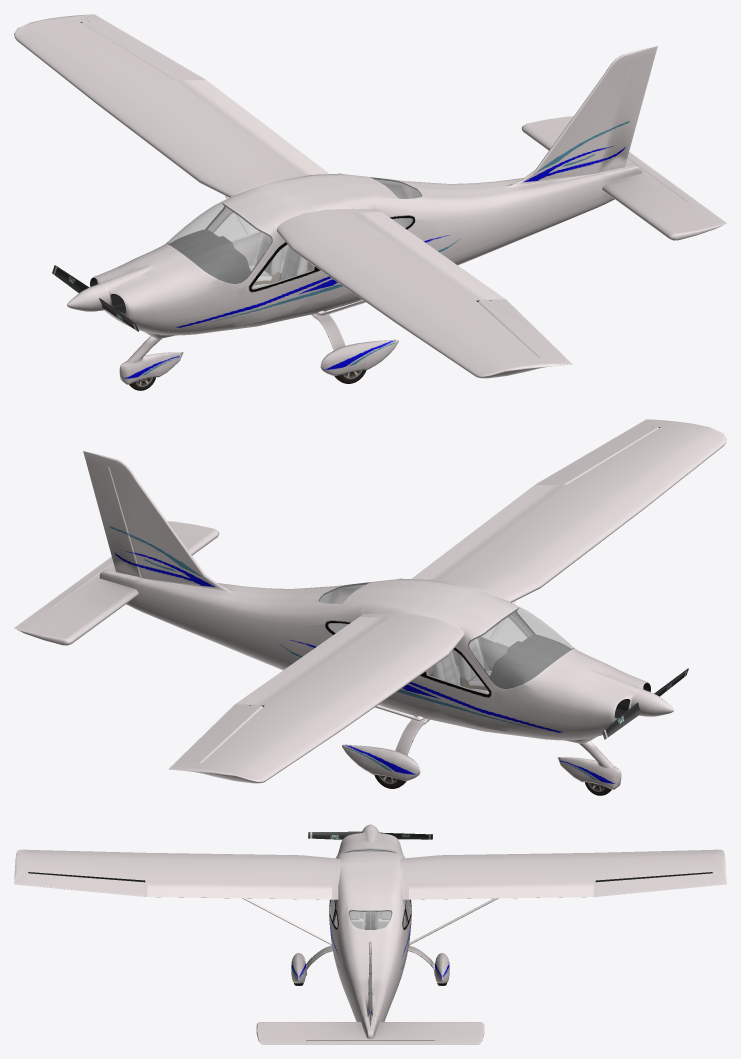
3 views of the same model, one above another, from view 1: azimuth 30°, elevation 25°; view 2: azimuth 150°, elevation 25°; view 3: azimuth 270°, elevation 25° (orthographic). The views are drawn at different scales.
Parts seen in each view (by area): view 1: Object_8, Object_7, Object_22, Object_18, Object_16, Object_10, Object_11; view 2: Object_8, Object_7, Object_22, Object_18, Object_16, Object_10, Object_11; view 3: Object_8, Object_7, Object_22, Object_16, Object_10, Object_11.
Boxes of the visible parts, x1,y1,x2,y2 form: Object_8: [14, 14, 726, 384]; Object_7: [91, 46, 657, 339]; Object_22: [166, 177, 421, 289]; Object_18: [169, 229, 250, 283]; Object_16: [167, 177, 421, 289]; Object_10: [67, 196, 365, 363]; Object_11: [249, 234, 307, 288]; Object_8: [14, 419, 726, 789]; Object_7: [83, 451, 649, 744]; Object_22: [319, 582, 574, 694]; Object_18: [490, 634, 571, 688]; Object_16: [319, 582, 573, 694]; Object_10: [375, 601, 673, 768]; Object_11: [433, 639, 491, 693]; Object_8: [14, 831, 726, 1044]; Object_7: [306, 829, 434, 1040]; Object_22: [329, 848, 411, 929]; Object_16: [329, 849, 411, 929]; Object_10: [242, 824, 498, 945]; Object_11: [349, 911, 391, 929].
Bounding box in the file's own units: 7.48 × 2.63 × 10.49.
17 materials, 15 textured.
